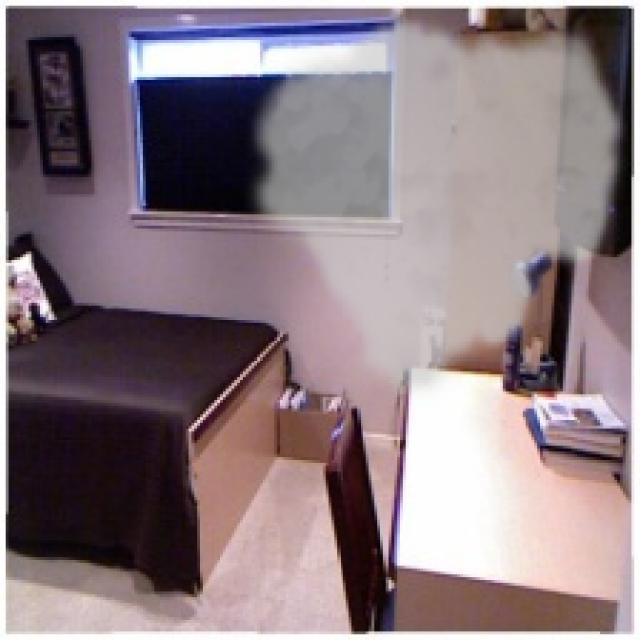Smoke: (240, 14, 629, 406)
